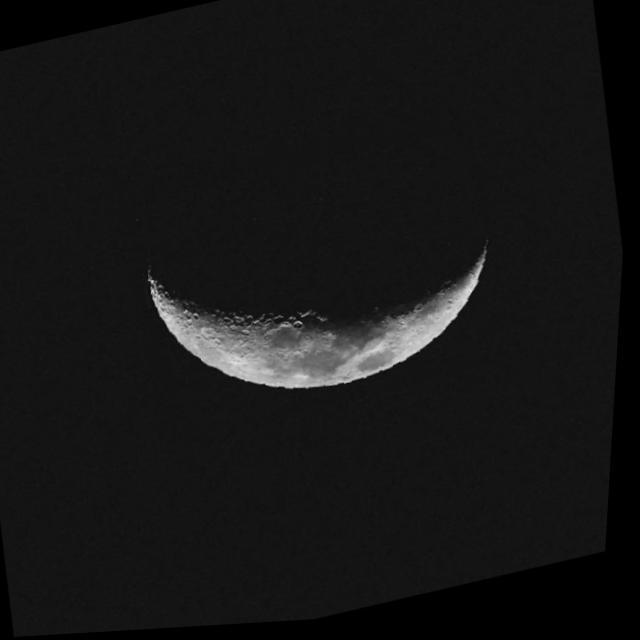moon: (109, 100, 527, 449)
